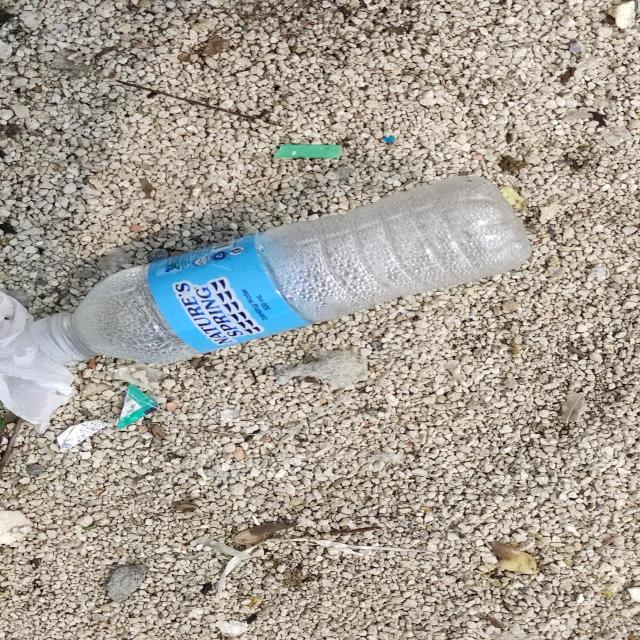litter: (26, 172, 534, 368)
